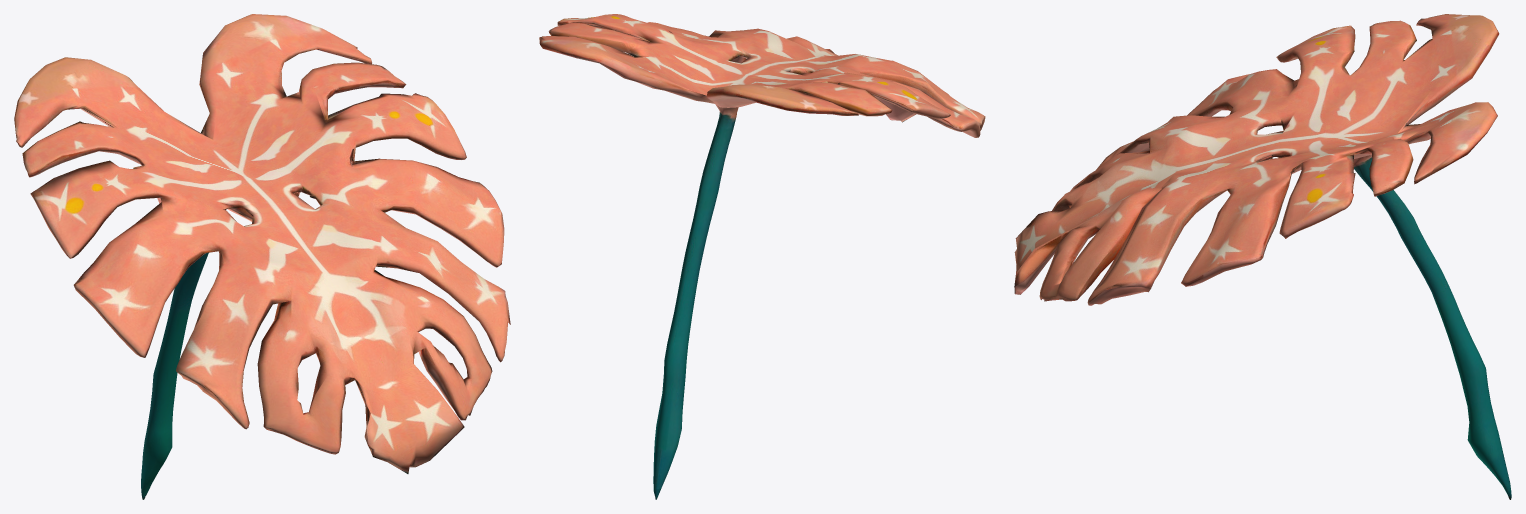
File: mon_rose_pink_v1.glb
The picture shows the model from 3 angles, left to right: view 1: azimuth 30°, elevation 25°; view 2: azimuth 150°, elevation 25°; view 3: azimuth 270°, elevation 25°; orthographic projection. The views are drawn at different scales.
Parts seen in each view (by area): view 1: world; view 2: world; view 3: world.
Part boxes in pixels (x1,y1,x2,y2): world: (14,14,510,499); world: (539,14,985,499); world: (1014,14,1511,499).
Bounding box in the file's own units: 1.76 × 1.92 × 2.
Materials: 1 (1 with a texture image).
